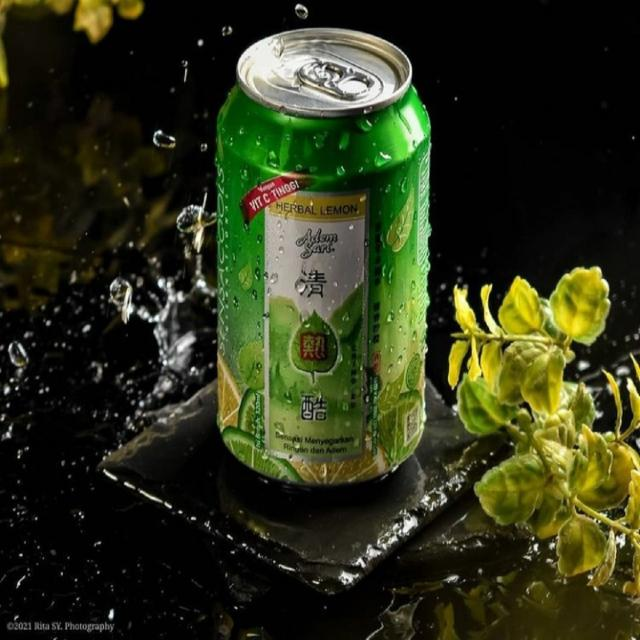ademsarikaleng: (213, 25, 432, 491)
